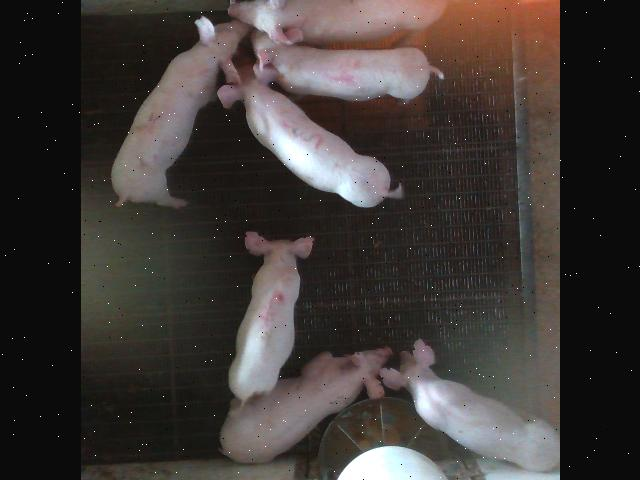pig-3: (218, 78, 402, 208)
pig-4: (250, 31, 443, 101)
pig-5: (228, 231, 312, 401)
